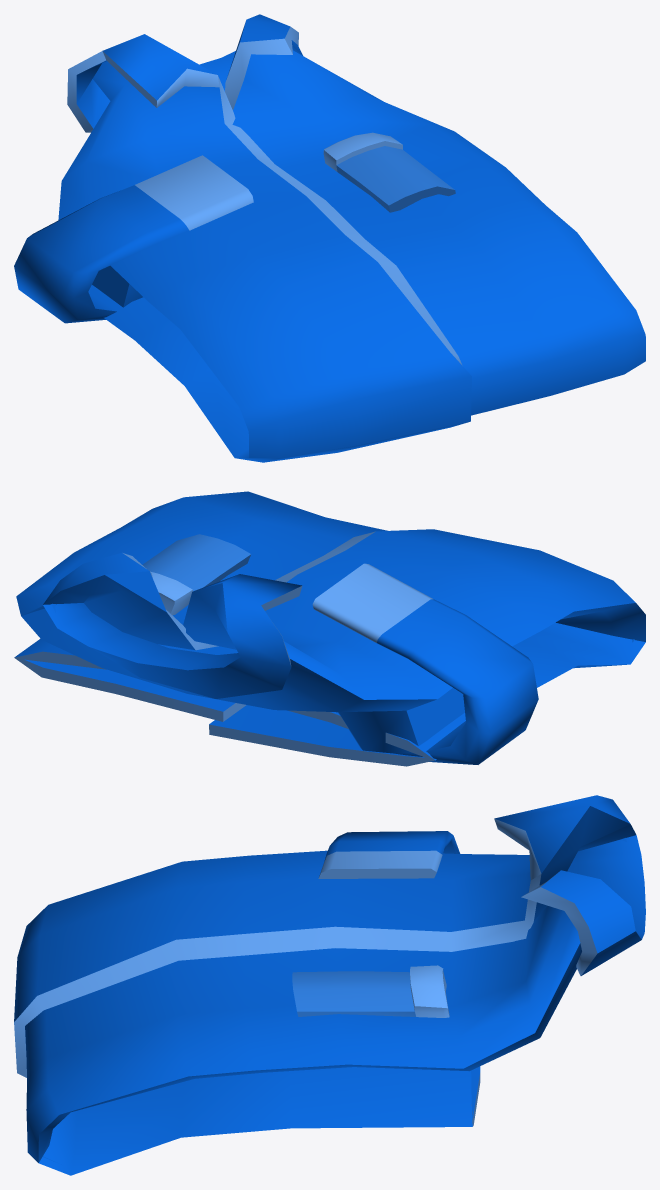
File: Pajamas.fbx
3 renders of one model, top to bottom at view 1: azimuth 30°, elevation 25°; view 2: azimuth 150°, elevation 25°; view 3: azimuth 270°, elevation 25°, orthographic. The views are drawn at different scales.
Parts seen in each view (by area): view 1: Pajamas; view 2: Pajamas; view 3: Pajamas.
Boxes of the visible parts, x1,y1,x2,y2 form: Pajamas: [14, 14, 645, 462]; Pajamas: [14, 491, 645, 766]; Pajamas: [14, 795, 645, 1175].
Size of the model in its own units: 137 by 68.48 by 154.
